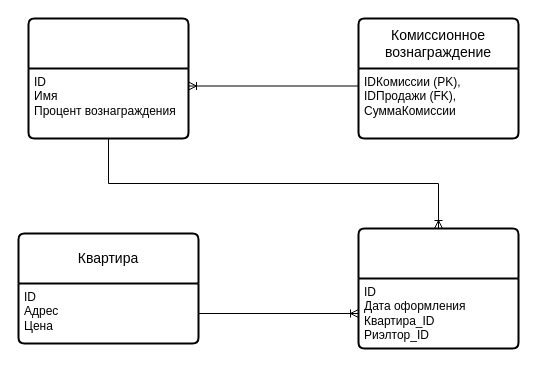
This 536x366 diagram has some shape labels left out. The box of each missing label's shape, as (x1, y1, x2, y2) in pixels:
Риэлтор: (27, 17, 189, 139)
Сделка купли-продажи: (357, 227, 519, 349)
